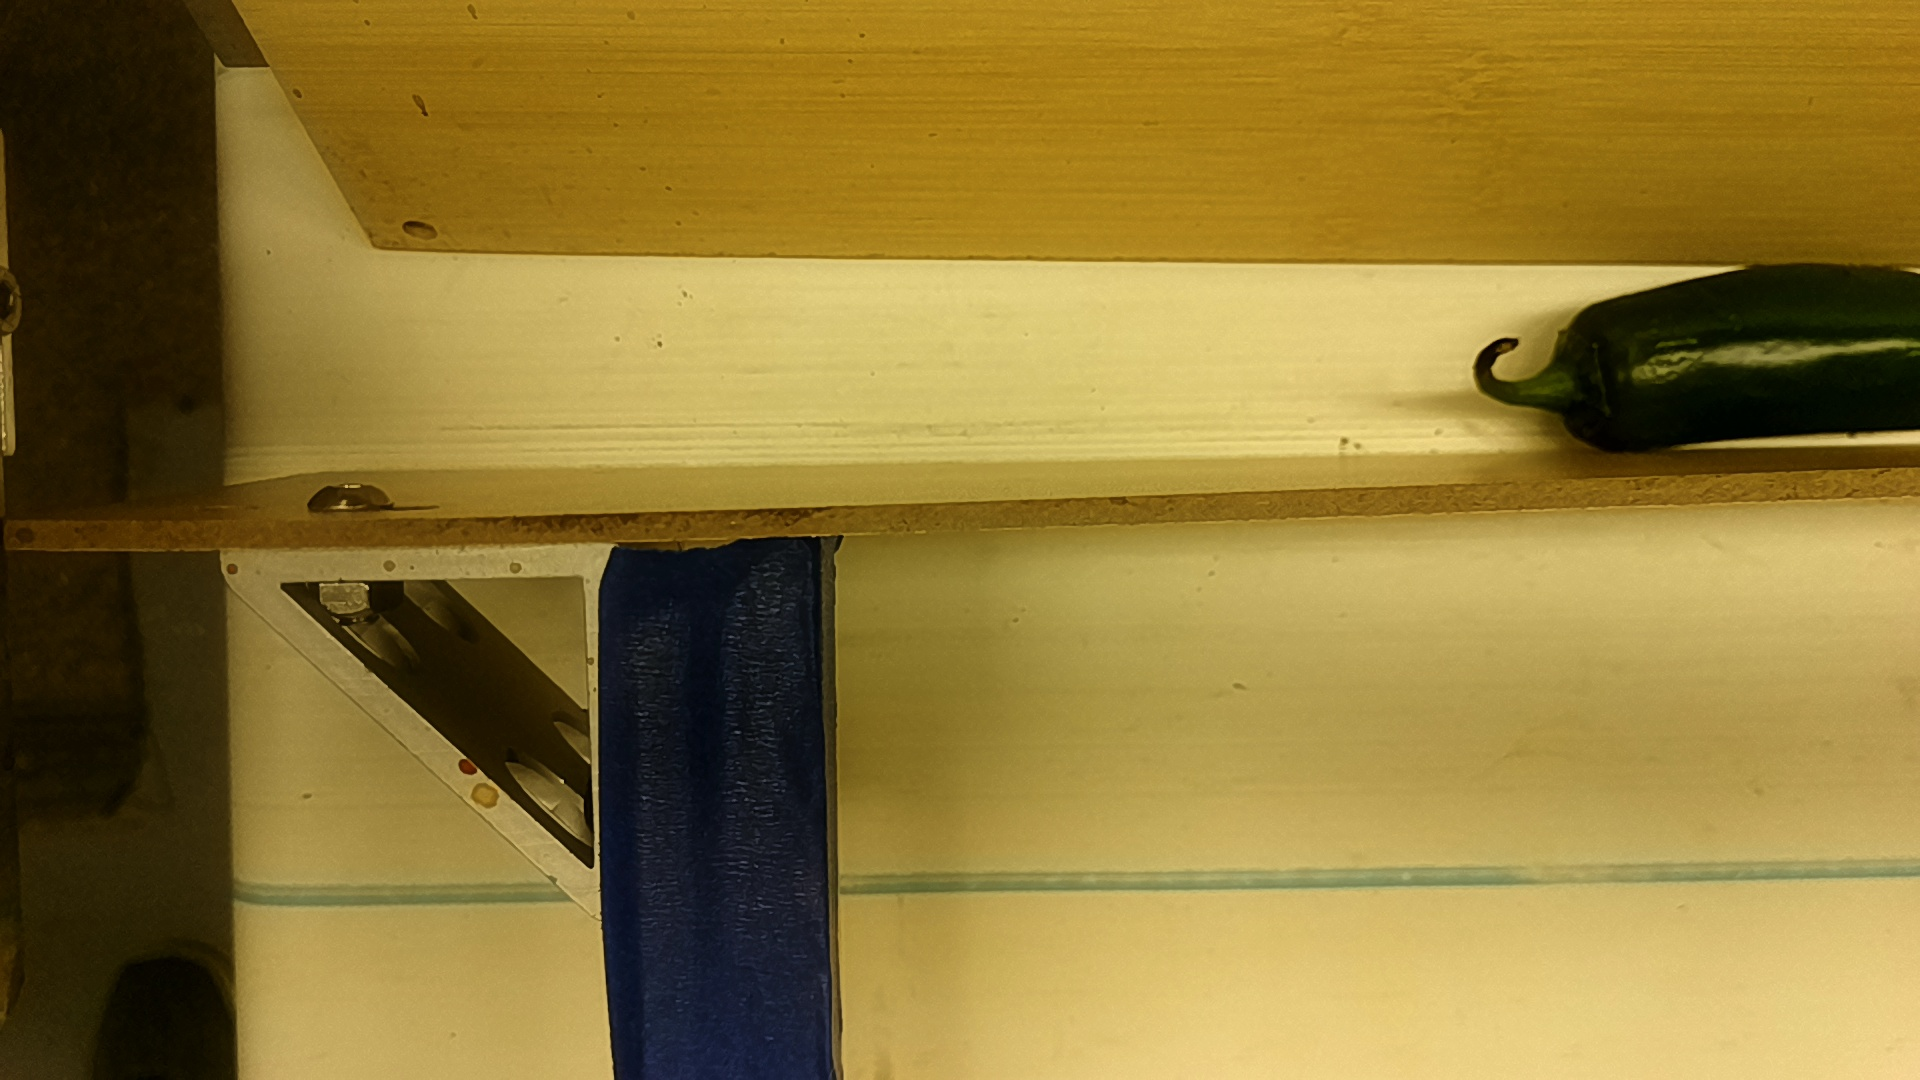Cut Point: (1545, 297, 1621, 459)
